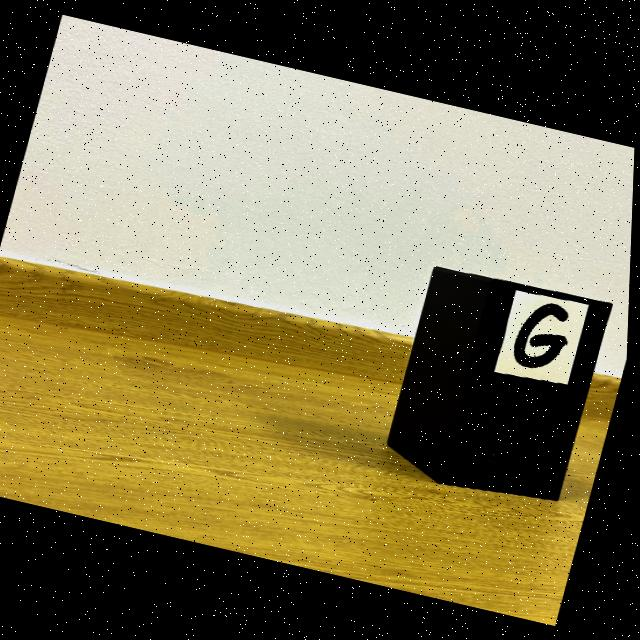G: (516, 304, 570, 369)
